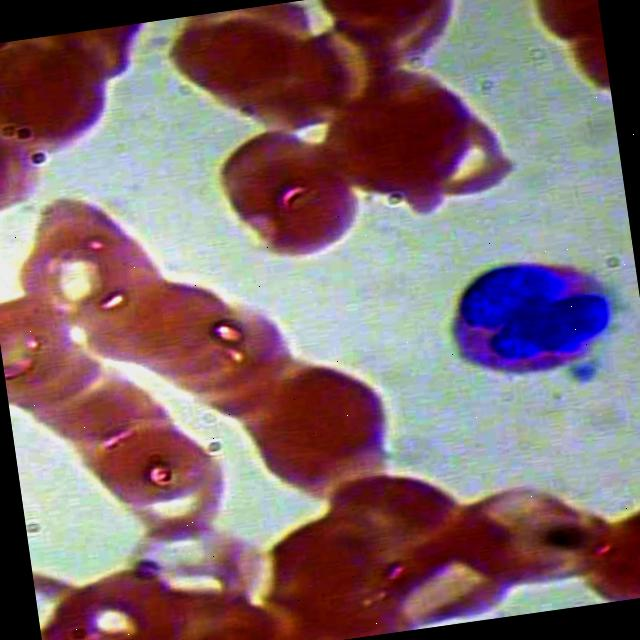Platelets: (568, 358, 602, 386)
WBC: (432, 239, 634, 392)
